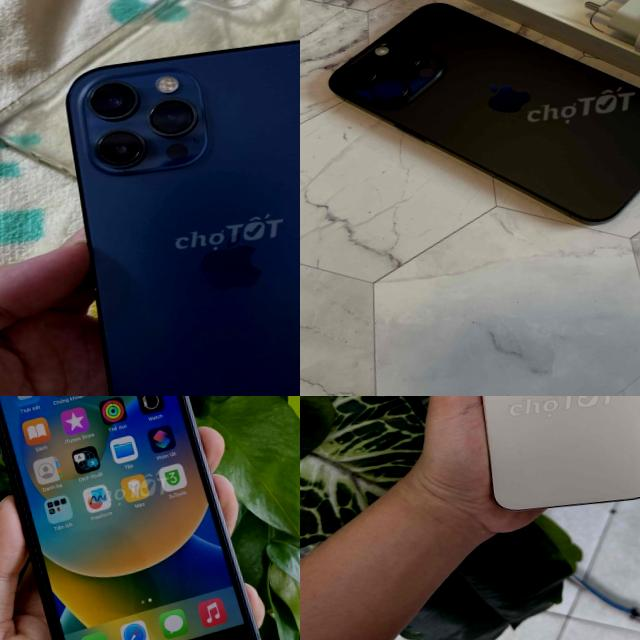gen_12_13: (47, 26, 300, 396)
gen_15: (300, 0, 640, 266), (456, 396, 640, 521)
gen_7_8: (0, 396, 272, 640)
